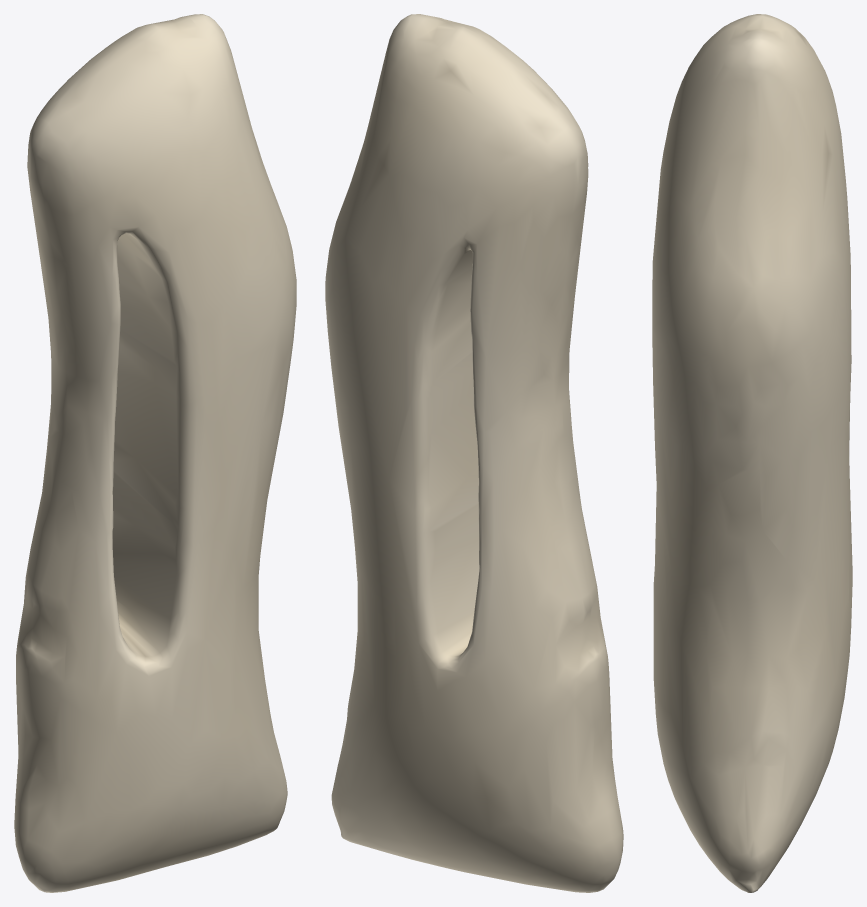
The model's file is lumen_dama_bila.glb.
The picture shows the model from 3 angles, left to right: view 1: azimuth 30°, elevation 25°; view 2: azimuth 150°, elevation 25°; view 3: azimuth 270°, elevation 25°; orthographic projection. The views are drawn at different scales.
Parts seen in each view (by area): view 1: Lumen dama bila; view 2: Lumen dama bila; view 3: Lumen dama bila.
Boxes of the visible parts, left/top/right/bottom form: Lumen dama bila: left=14, top=14, right=296, bottom=892; Lumen dama bila: left=325, top=14, right=623, bottom=892; Lumen dama bila: left=652, top=14, right=852, bottom=892.
Bounding box in the file's own units: 0.0294 × 0.0857 × 0.019.
